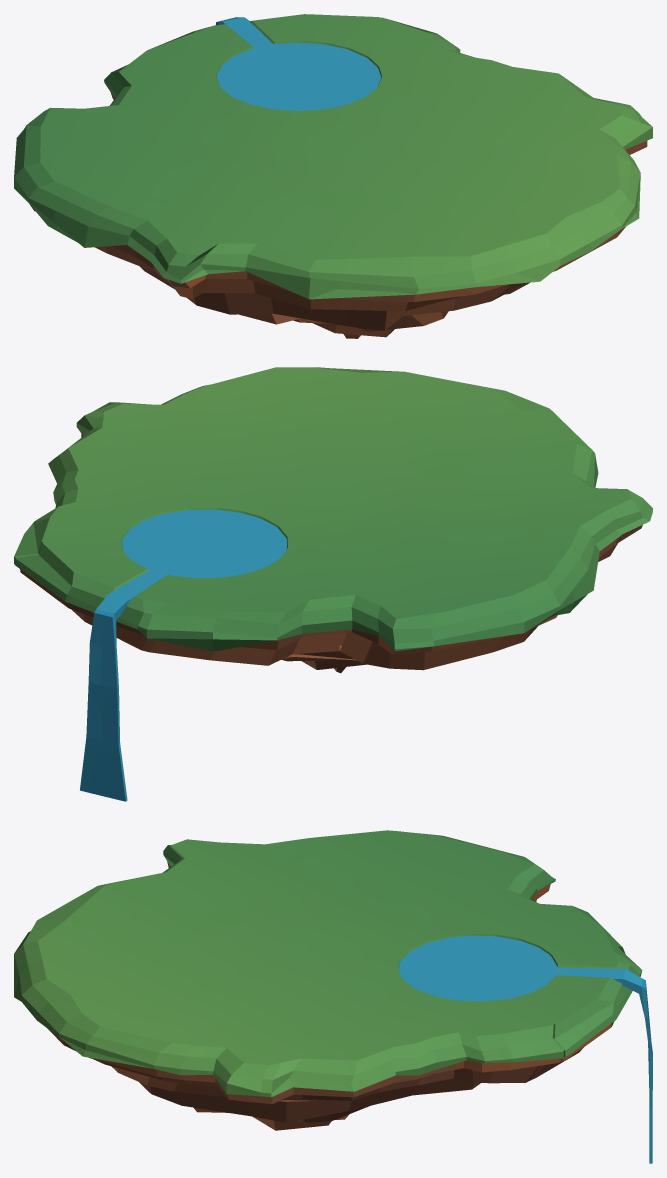
The model's file is bornIsland.glb.
The picture shows the model from 3 angles, top to bottom: view 1: azimuth 30°, elevation 25°; view 2: azimuth 150°, elevation 25°; view 3: azimuth 270°, elevation 25°; orthographic projection. The views are drawn at different scales.
Visible parts, largest first — view 1: bornIsland; view 2: bornIsland; view 3: bornIsland.
Boxes of the visible parts, x1=… form: bornIsland: x1=14, y1=14, x2=652, y2=338; bornIsland: x1=14, y1=367, x2=652, y2=801; bornIsland: x1=14, y1=830, x2=652, y2=1163.
Bounding box in the file's own units: 4.46 × 1.46 × 4.69.
1 material, 1 textured.
